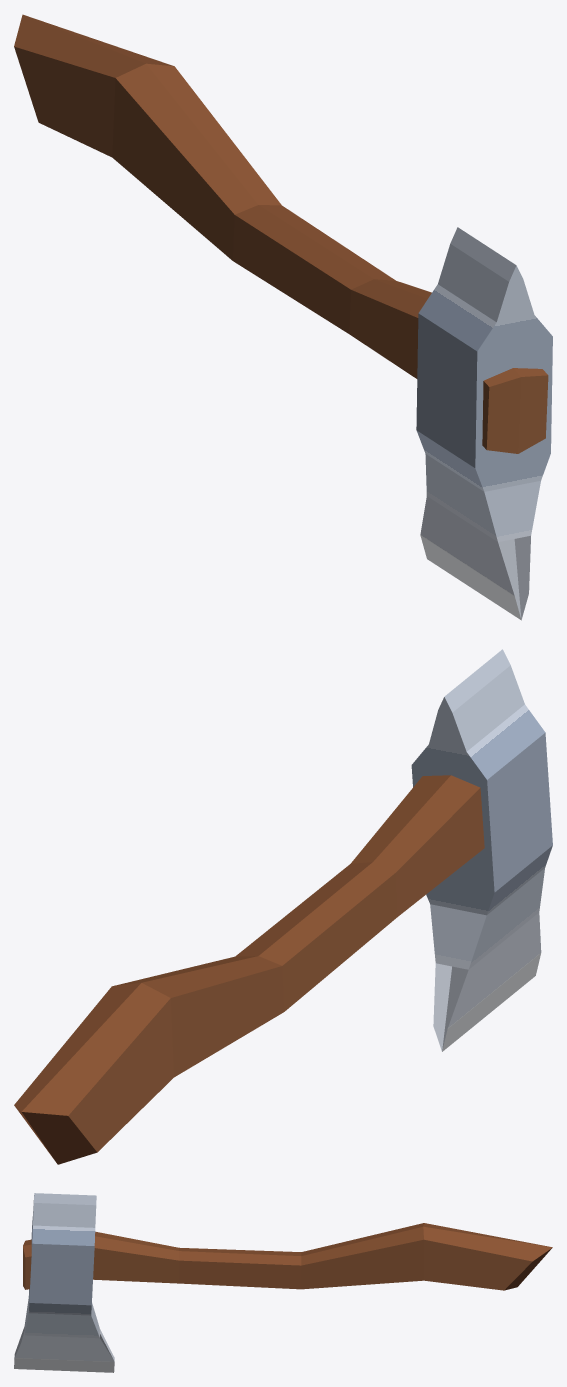
File: W.axe.gltf
3 renders of one model, top to bottom at view 1: azimuth 30°, elevation 25°; view 2: azimuth 150°, elevation 25°; view 3: azimuth 270°, elevation 25°, orthographic. The views are drawn at different scales.
Parts seen in each view (by area): view 1: cuboid (×2); view 2: cuboid (×2); view 3: cuboid (×2).
Part boxes in pixels (<box>): cuboid (×2): <box>14,14,552,620</box>; cuboid (×2): <box>14,649,552,1164</box>; cuboid (×2): <box>14,1193,552,1372</box>.
Size of the model in its own units: 0.1064 by 0.4356 by 1.16.
Materials: 1 (1 with a texture image).
